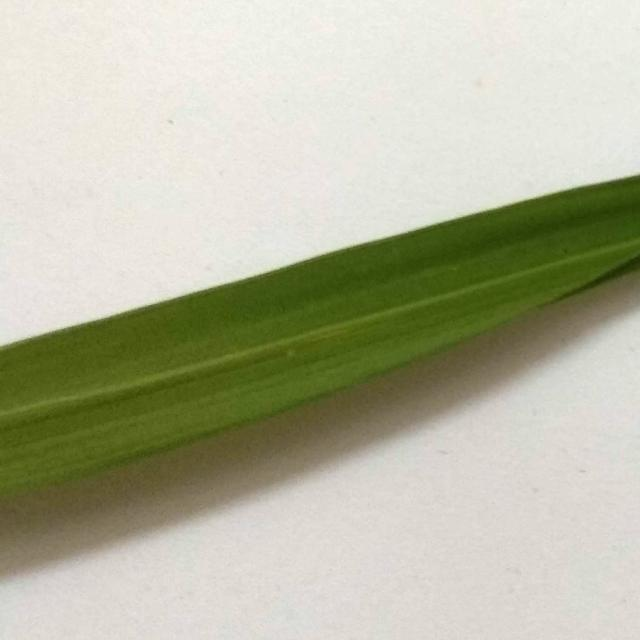Rice_Healthy: (0, 176, 640, 498)
